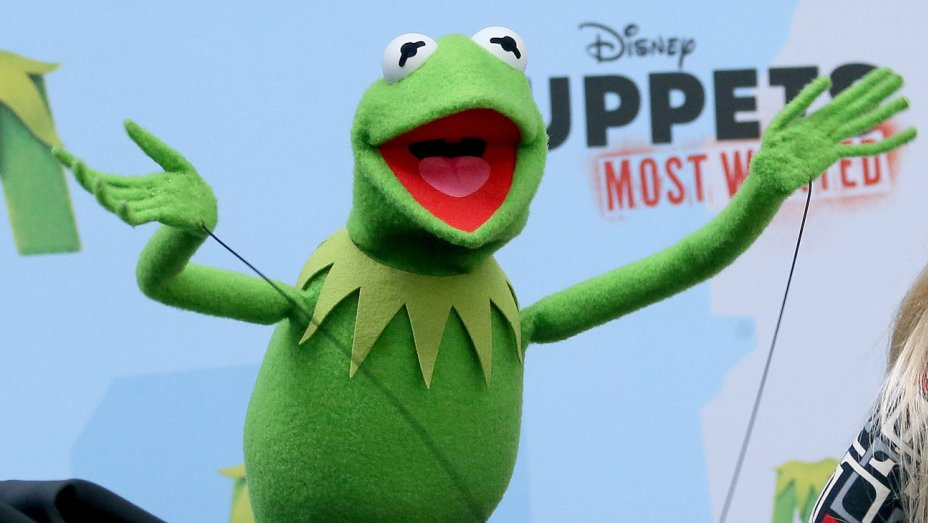kermit: (349, 21, 555, 278)
